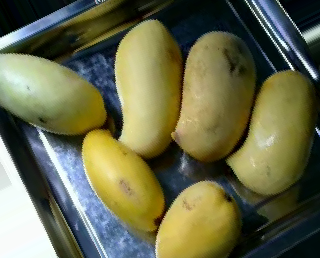Mango: (226, 70, 316, 194), (171, 32, 255, 160), (113, 19, 182, 156), (81, 128, 166, 233), (0, 53, 107, 133), (153, 181, 241, 258)
